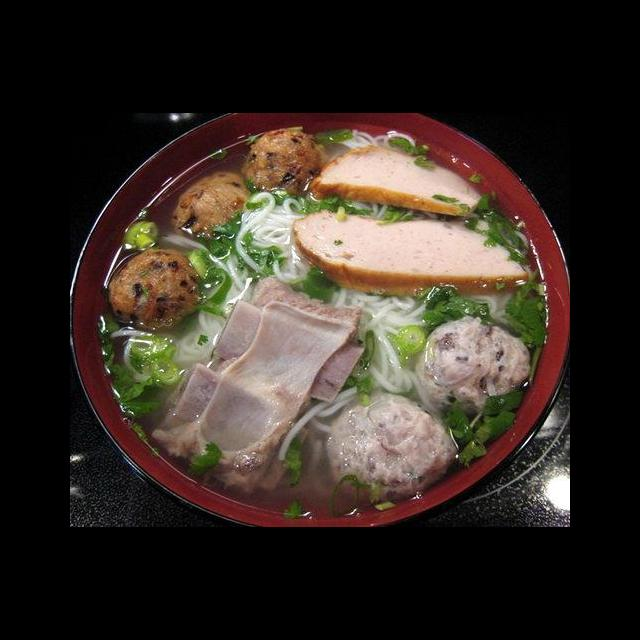bun: (332, 277, 420, 397), (226, 188, 315, 300)
bun moc: (73, 133, 548, 527)
thit heo: (148, 269, 370, 498)
vien moc: (320, 379, 461, 501), (414, 310, 543, 414), (102, 240, 209, 326), (241, 124, 327, 204), (169, 169, 255, 235)
